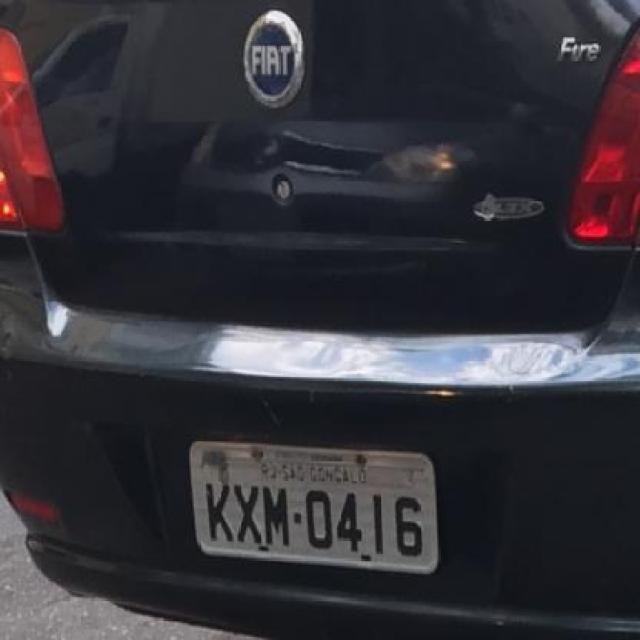old_plate: (181, 436, 450, 580)
